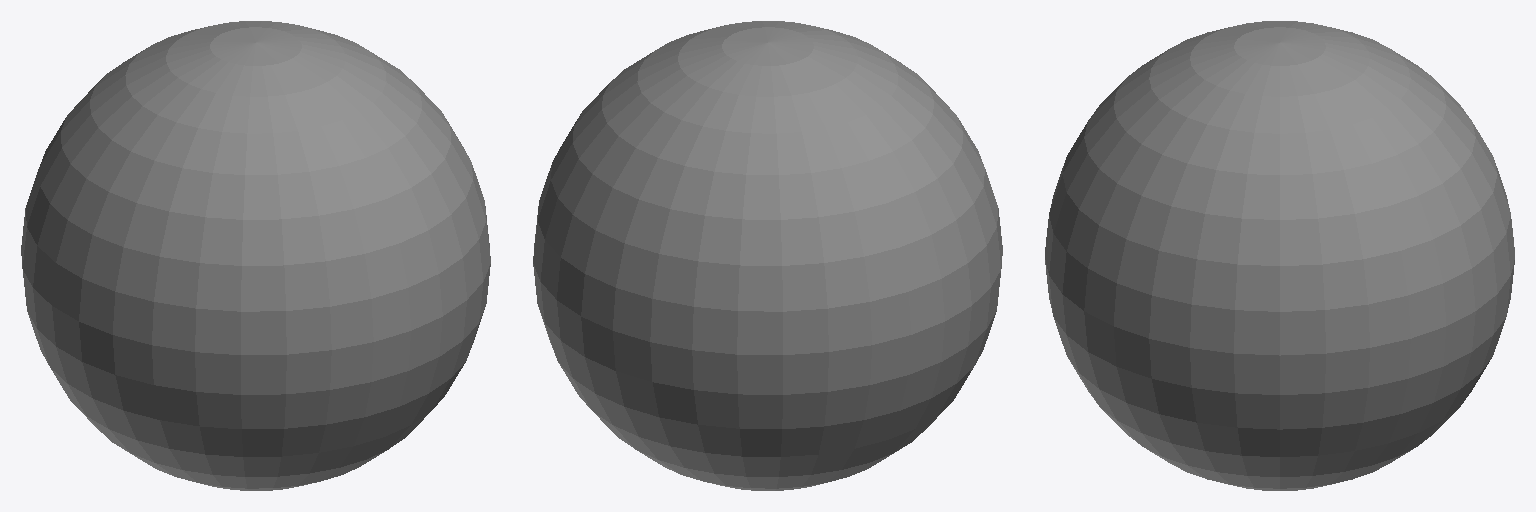
Rendered from avatar01.obj.
3 views of the same model, side by side, from view 1: azimuth 30°, elevation 25°; view 2: azimuth 150°, elevation 25°; view 3: azimuth 270°, elevation 25° (orthographic).
Visible parts, largest first — view 1: Sphere001; view 2: Sphere001; view 3: Sphere001.
Boxes of the visible parts, x1,y1,x2,y2 form: Sphere001: [21, 21, 490, 490]; Sphere001: [533, 21, 1002, 490]; Sphere001: [1045, 21, 1514, 490].
Bounding box in the file's own units: 55.99 × 55.99 × 55.99.